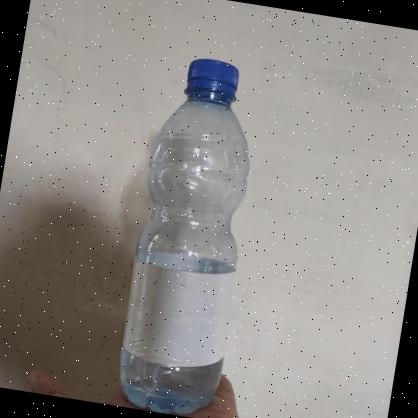bottle: (107, 50, 273, 418)
cap: (181, 56, 242, 100)
label: (118, 251, 242, 372)
